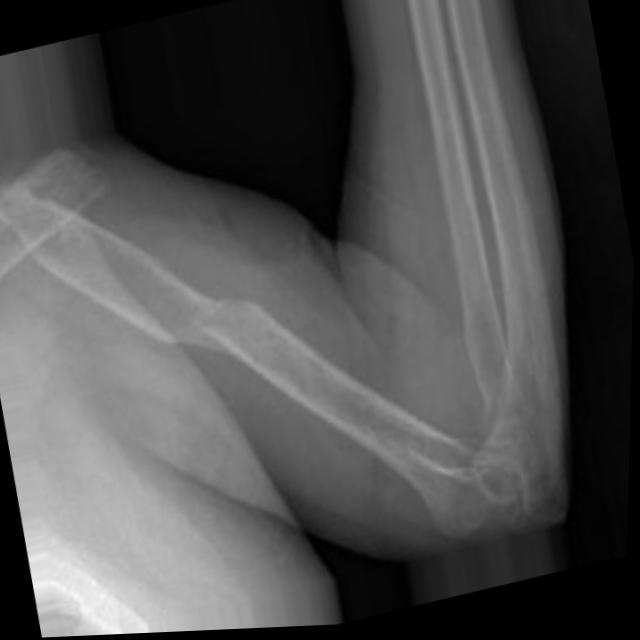fracture: (159, 272, 254, 381)
